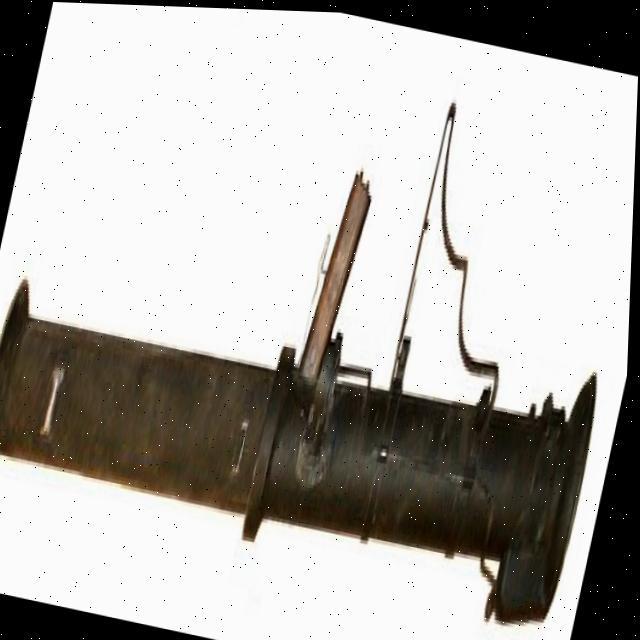rocket: (0, 14, 640, 637)
